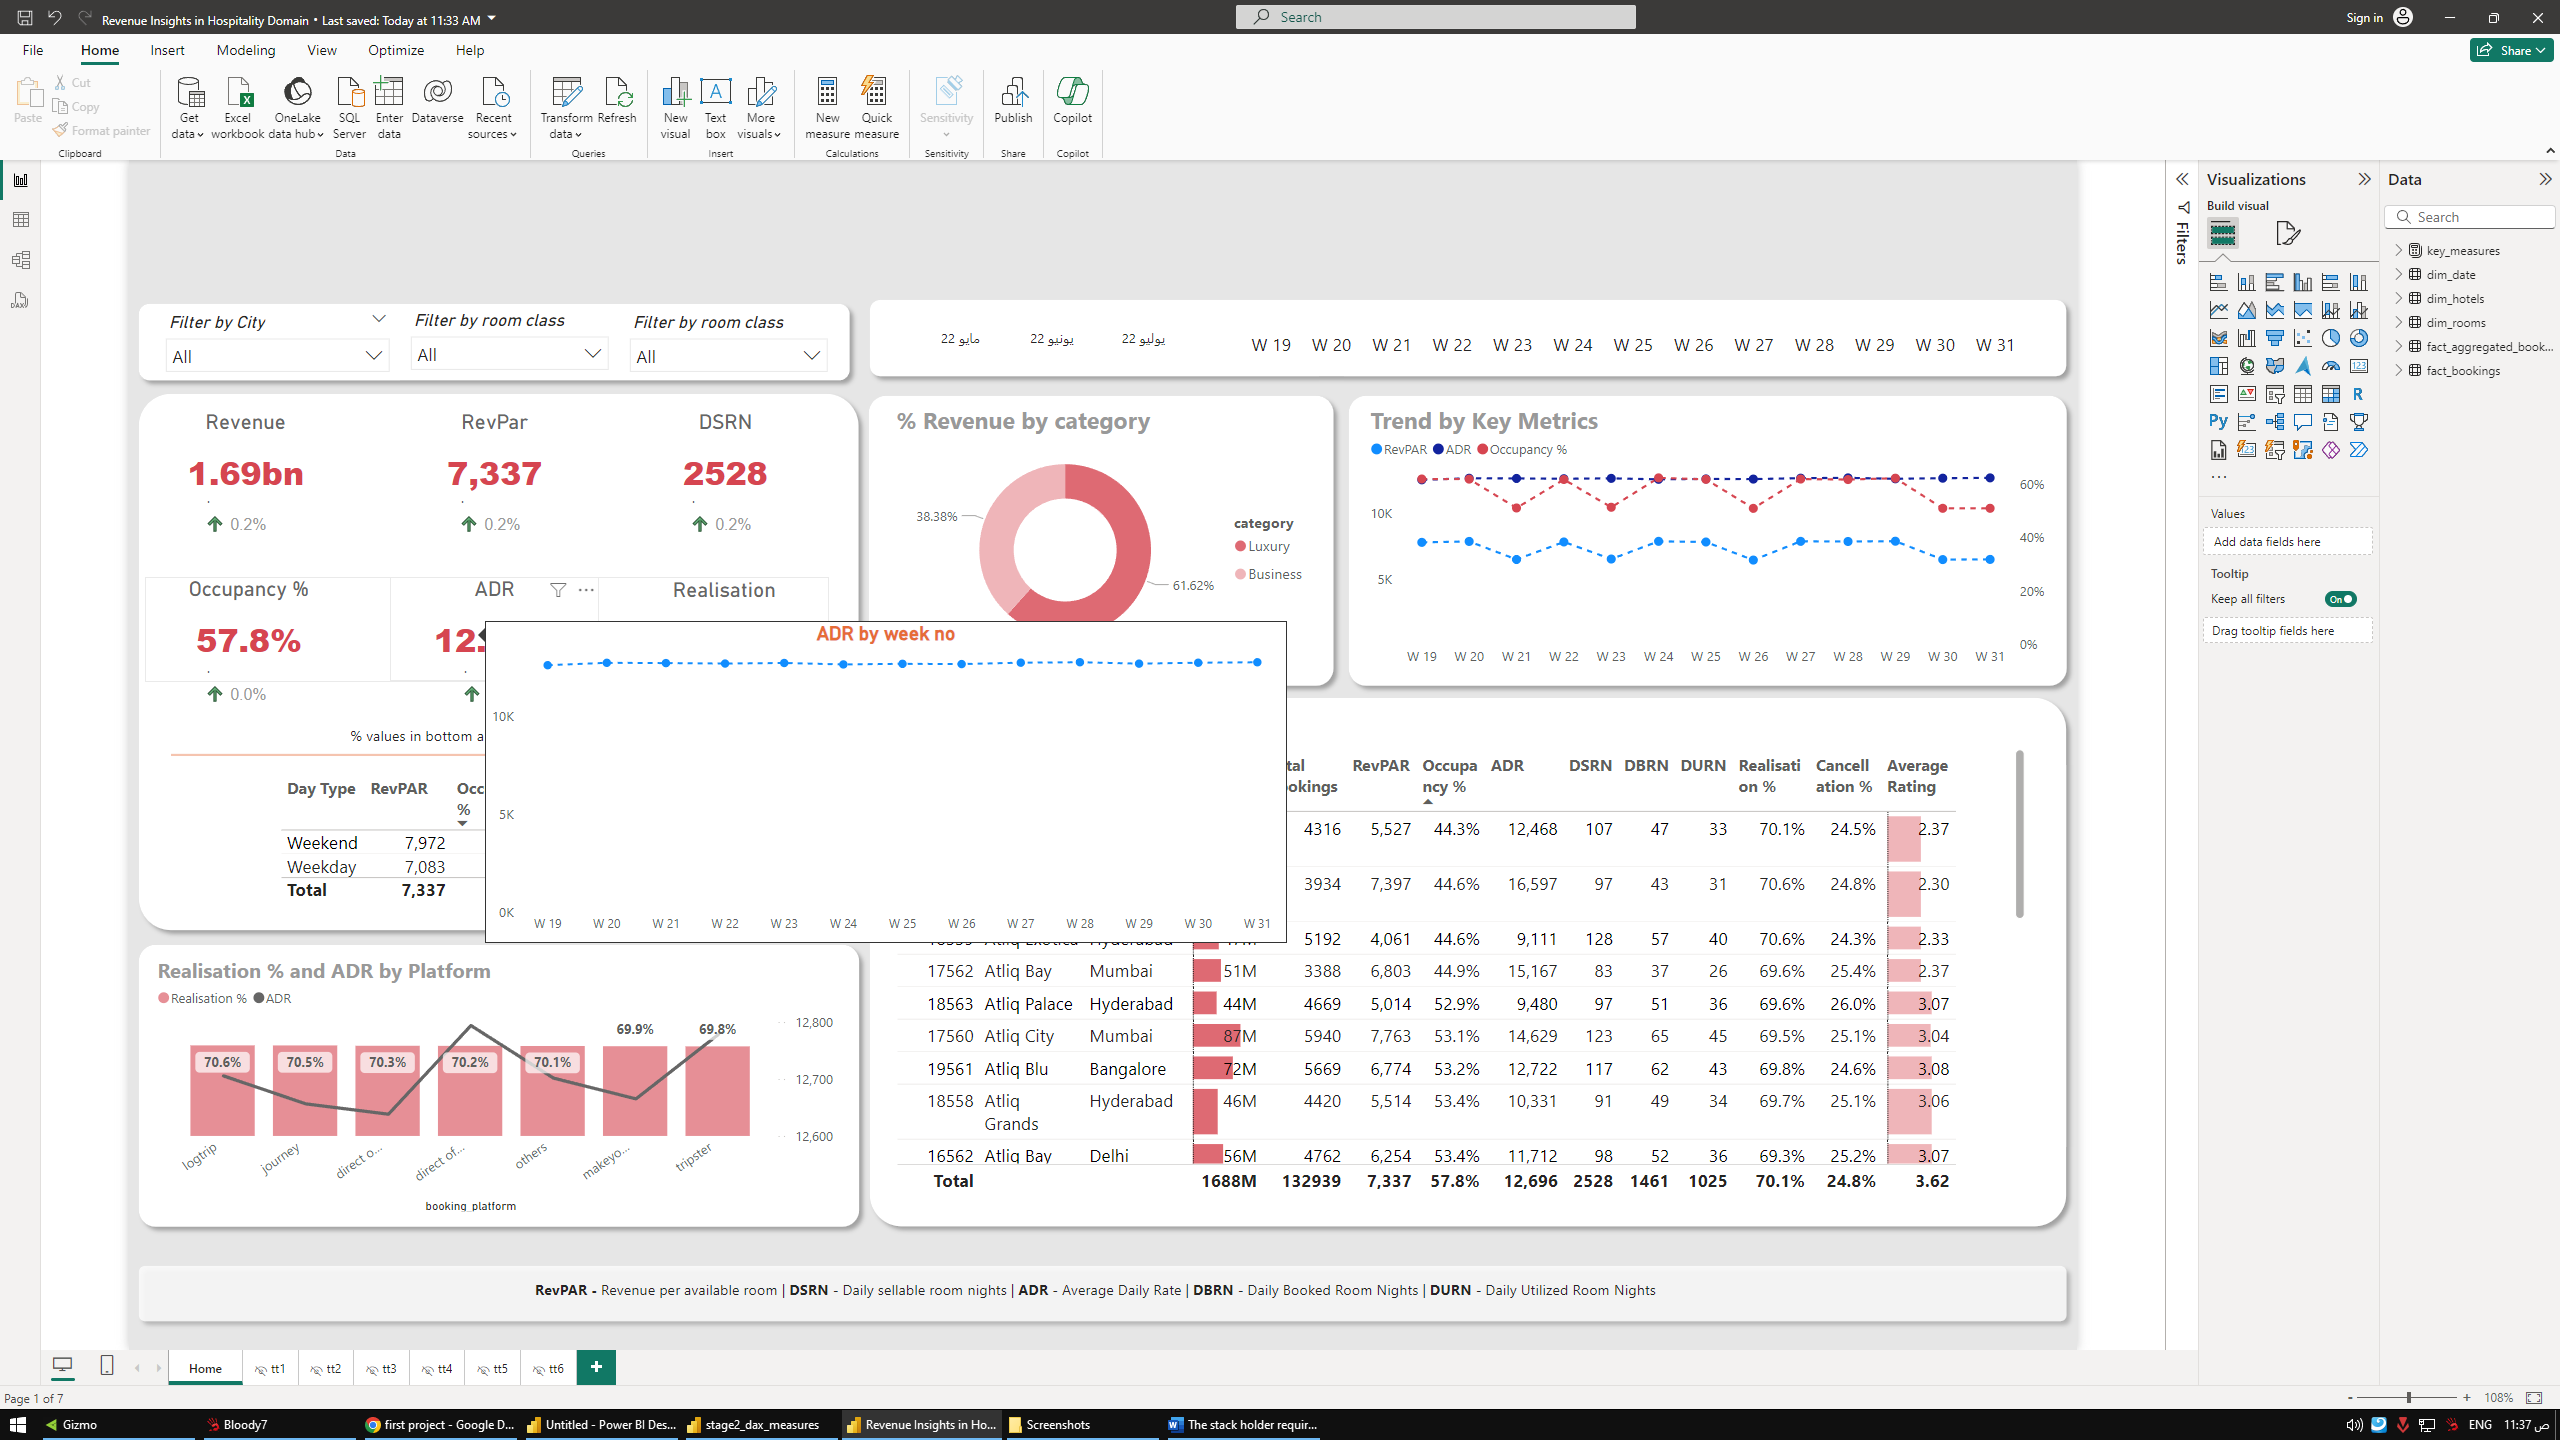

The page's visual inventory and layout, read from the dashboard file:
{"tool":"powerbi","page":{"name":"Page 1","canvas":[1280,720],"ordinal":0},"visuals":[{"type":"tableEx","fields":{"Values":["dim_hotels.property_id","dim_hotels.property_name","key_measures.Revenue","key_measures.Total Bookings","key_measures.RevPAR","key_measures.Occupancy %","key_measures.ADR","key_measures.DSRN","key_measures.DBRN","key_measures.DURN","key_measures.Realisation %","key_measures.Cancellation %"]},"box":[277.8,248.5,987.6,446.6],"z":0},{"type":"advancedSlicerVisual","title":"filter by city ","fields":{"Values":["dim_hotels.city"]},"box":[0,113.9,478.8,62.1],"z":1000},{"type":"advancedSlicerVisual","title":"filter by room type","fields":{"Values":["dim_rooms.room_class"]},"box":[0,51.2,555.5,69.4],"z":2000},{"type":"advancedSlicerVisual","fields":{"Values":["dim_date.mmm yy"]},"box":[552.5,64.6,238.8,56],"z":3000},{"type":"advancedSlicerVisual","fields":{"Values":["dim_date.week no"]},"box":[0,0,1104.8,51],"z":4000},{"type":"card","title":"Revenue","fields":{"Values":["key_measures.Revenue"]},"box":[0,176.5,127.4,87.9],"z":5000},{"type":"tableEx","fields":{"Values":["key_measures.Revenue WoW change %"]},"box":[15.9,248.5,107,59.9],"z":6000},{"type":"donutChart","fields":{"Category":["dim_hotels.category"],"Y":["key_measures.Occupancy %"]},"box":[997.1,52.9,257.4,182.2],"z":6001}]}

Visuals, with their boxes on the page's 1280x720 design canvas (x1, y1, x2, y2). These are canvas units, not pixel positions in the 2560x1440 screenshot, which may show the page scaled, cropped or inside an application window:
tableEx - dim_hotels.property_id x dim_hotels.property_name: Rect(278, 248, 1265, 695)
"filter by city " advancedSlicerVisual: Rect(0, 114, 479, 176)
"filter by room type" advancedSlicerVisual: Rect(0, 51, 556, 121)
advancedSlicerVisual - dim_date.mmm yy: Rect(552, 65, 791, 121)
advancedSlicerVisual - dim_date.week no: Rect(0, 0, 1105, 51)
"Revenue" card: Rect(0, 176, 127, 264)
tableEx - key_measures.Revenue WoW change %: Rect(16, 248, 123, 308)
donutChart - dim_hotels.category x key_measures.Occupancy %: Rect(997, 53, 1254, 235)
